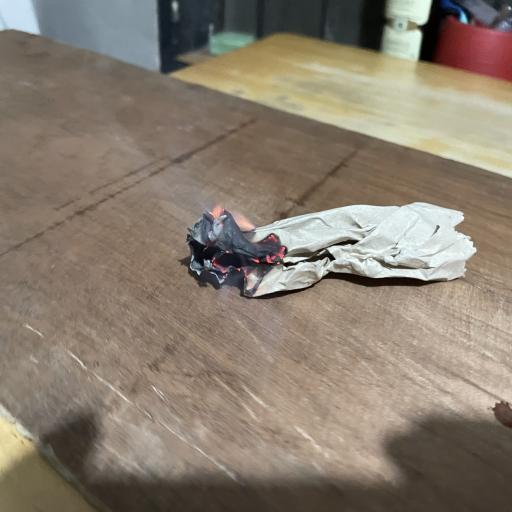fire: (172, 165, 284, 314)
